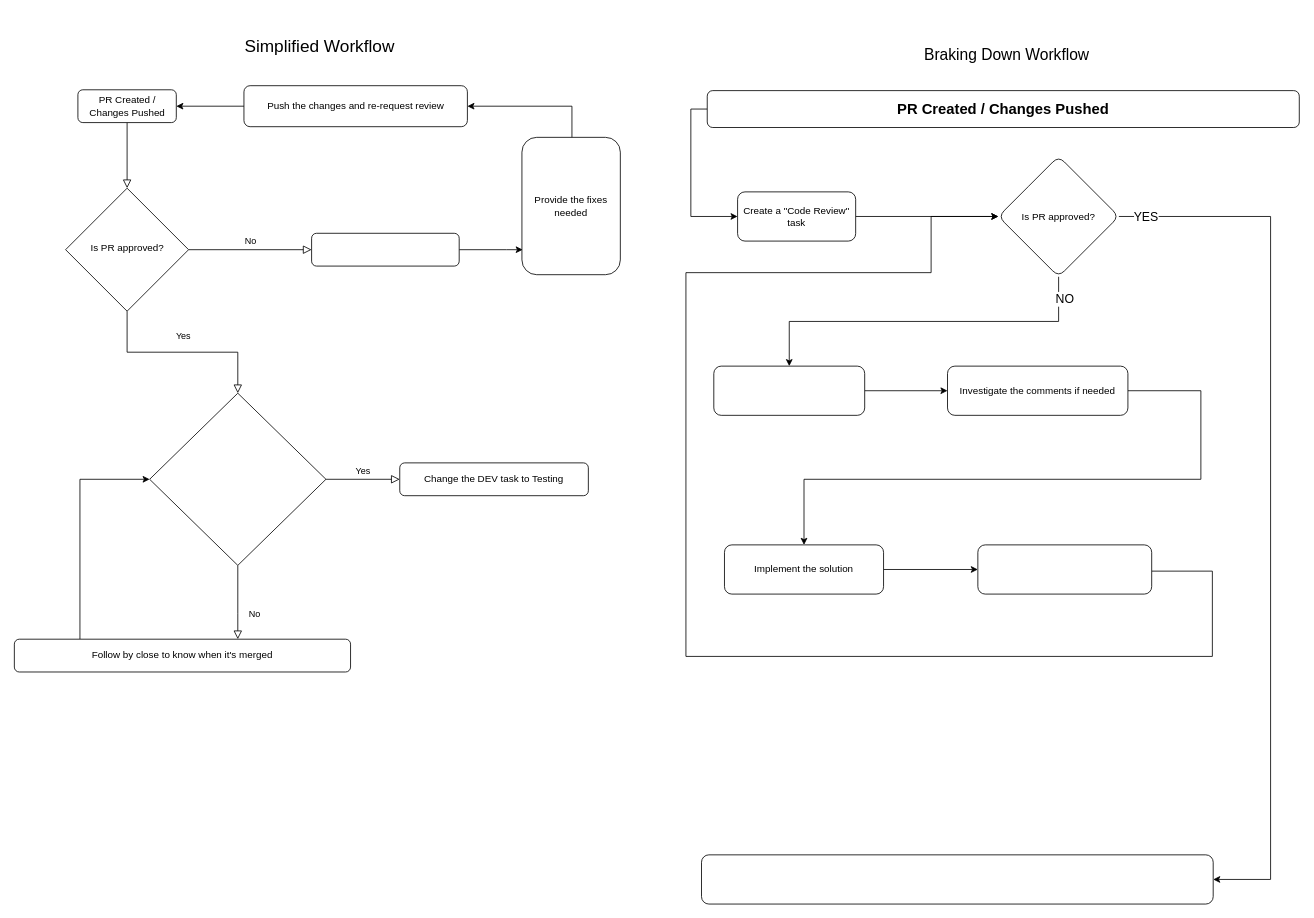
The diagram is 1314 pixels wide and 918 high, and some of its shapes have lost their labels. Each missing label, with the centre of its shape:
"Check the comments" belongs at pixel 385 249.
"Create a Sub-task for each comment" belongs at pixel 789 390.
"Is the PR already merged?" belongs at pixel 237 478.
"Merged" belongs at pixel 957 879.
"Push the changes to the PR" belongs at pixel 1064 569.
